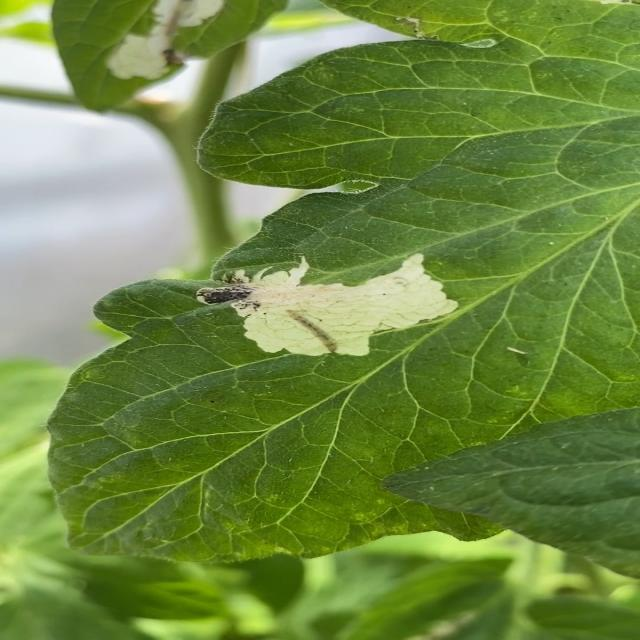Larvae: (288, 310, 338, 352)
